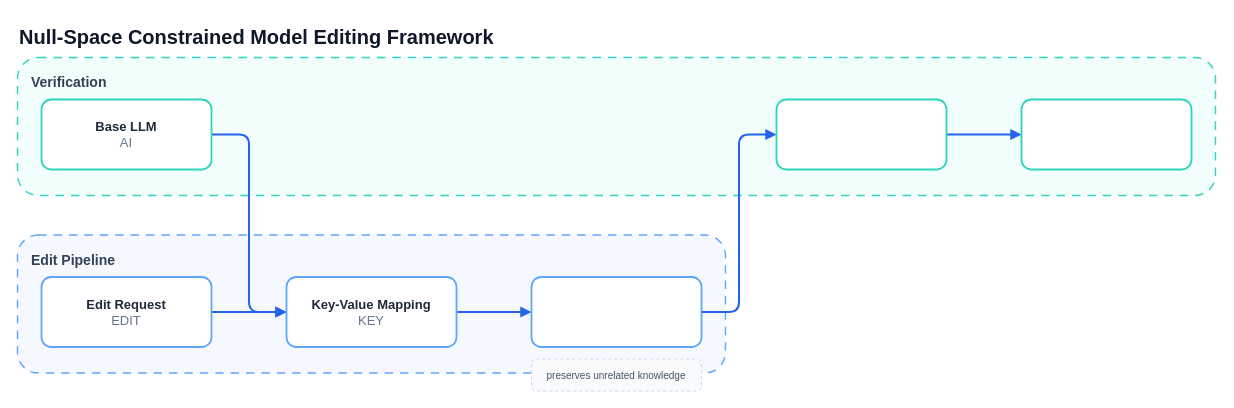
Image size: 1234x408. Some labels were removed from this diagram. Here are the shapes that lost their labels. From the top down, the box of each, then its label:
(775, 98, 947, 170): Edited LLM AI
(1020, 98, 1192, 170): Preservation Check OK
(530, 276, 702, 347): Null-Space Projection MATRIX
